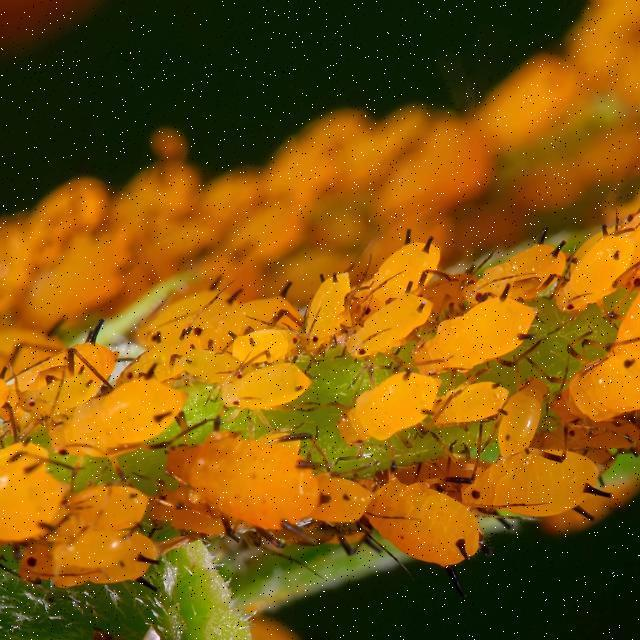Aphids: (156, 422, 329, 549), (351, 454, 488, 580), (31, 385, 195, 463), (414, 285, 535, 379), (11, 328, 119, 424), (332, 280, 437, 378), (221, 357, 316, 438), (116, 330, 197, 403), (214, 317, 313, 375)
